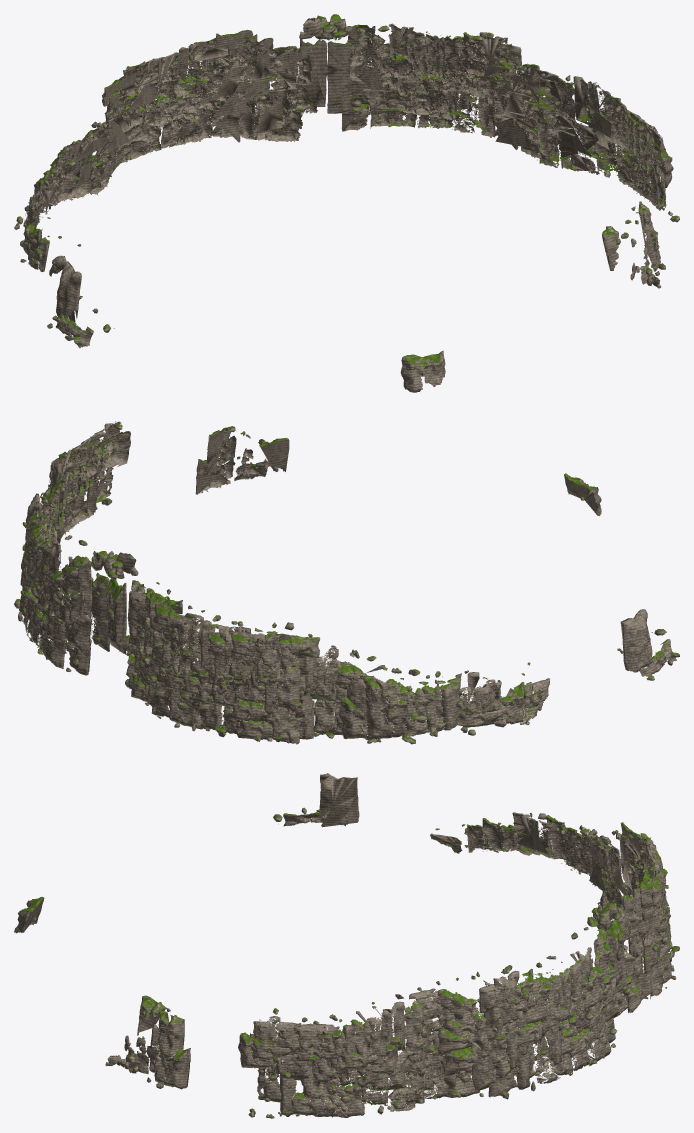
Rendered from cliffwall_set.glb.
3 renders of one model, top to bottom at view 1: azimuth 30°, elevation 25°; view 2: azimuth 150°, elevation 25°; view 3: azimuth 270°, elevation 25°, orthographic. The views are drawn at different scales.
Parts seen in each view (by area): view 1: wall_05_rock_mesh, wall_04_rock_lod_mesh, wall_06_rock_lod_mesh, wall_05_rock_lod_mesh, wall_07_rock_lod_mesh, wall_06_rock_mesh, wall_07_rock_mesh, wall_09_rock_mesh, wall_04_rock_mesh, wall_03_rock_lod_mesh, wall_09_rock_lod_mesh, wall_11_rock_mesh (+13 smaller); view 2: wall_01_rock_mesh, wall_00_rock_mesh, wall_02_rock_mesh, wall_01_rock_lod_mesh, wall_05_rock_mesh, wall_00_rock_lod_mesh, wall_03_rock_mesh, wall_02_rock_lod_mesh, wall_11_rock_mesh, wall_05_rock_lod_mesh, wall_11_rock_lod_mesh, wall_03_rock_lod_mesh (+17 smaller); view 3: wall_09_rock_mesh, wall_07_rock_mesh, wall_11_rock_mesh, wall_08_rock_mesh, wall_09_rock_lod_mesh, wall_11_rock_lod_mesh, wall_10_rock_mesh, wall_07_rock_lod_mesh, wall_08_rock_lod_mesh, wall_00_rock_mesh, wall_00_rock_lod_mesh, wall_06_rock_mesh (+14 smaller).
Boxes of the visible parts, x1,y1,x2,y2 form: wall_05_rock_mesh: [274, 16, 380, 141]; wall_04_rock_lod_mesh: [211, 31, 286, 142]; wall_06_rock_lod_mesh: [370, 24, 443, 128]; wall_05_rock_lod_mesh: [276, 14, 384, 141]; wall_07_rock_lod_mesh: [439, 32, 514, 137]; wall_06_rock_mesh: [364, 23, 442, 127]; wall_07_rock_mesh: [439, 32, 515, 149]; wall_09_rock_mesh: [542, 73, 634, 186]; wall_04_rock_mesh: [211, 31, 293, 141]; wall_03_rock_lod_mesh: [155, 35, 228, 150]; wall_09_rock_lod_mesh: [550, 75, 634, 188]; wall_11_rock_mesh: [56, 125, 679, 392]; wall_01_rock_mesh: [289, 634, 407, 744]; wall_00_rock_mesh: [404, 609, 664, 744]; wall_02_rock_mesh: [218, 622, 294, 743]; wall_01_rock_lod_mesh: [285, 634, 407, 743]; wall_05_rock_mesh: [60, 551, 145, 689]; wall_00_rock_lod_mesh: [404, 611, 663, 744]; wall_03_rock_mesh: [166, 600, 235, 736]; wall_02_rock_lod_mesh: [220, 622, 297, 744]; wall_11_rock_mesh: [95, 421, 679, 670]; wall_05_rock_lod_mesh: [61, 551, 144, 688]; wall_11_rock_lod_mesh: [95, 422, 679, 669]; wall_03_rock_lod_mesh: [167, 601, 235, 735]; wall_09_rock_mesh: [344, 988, 426, 1117]; wall_07_rock_mesh: [489, 962, 570, 1098]; wall_11_rock_mesh: [14, 774, 332, 1118]; wall_08_rock_mesh: [418, 973, 500, 1099]; wall_09_rock_lod_mesh: [344, 994, 425, 1116]; wall_11_rock_lod_mesh: [14, 775, 332, 1118]; wall_10_rock_mesh: [279, 1015, 345, 1117]; wall_07_rock_lod_mesh: [491, 964, 569, 1099]; wall_08_rock_lod_mesh: [420, 972, 497, 1098]; wall_00_rock_mesh: [321, 773, 592, 875]; wall_00_rock_lod_mesh: [321, 774, 592, 875]; wall_06_rock_mesh: [546, 934, 611, 1075].
Size of the model in its own units: 166 by 34.7 by 158.
Materials: 2 (2 with a texture image).
